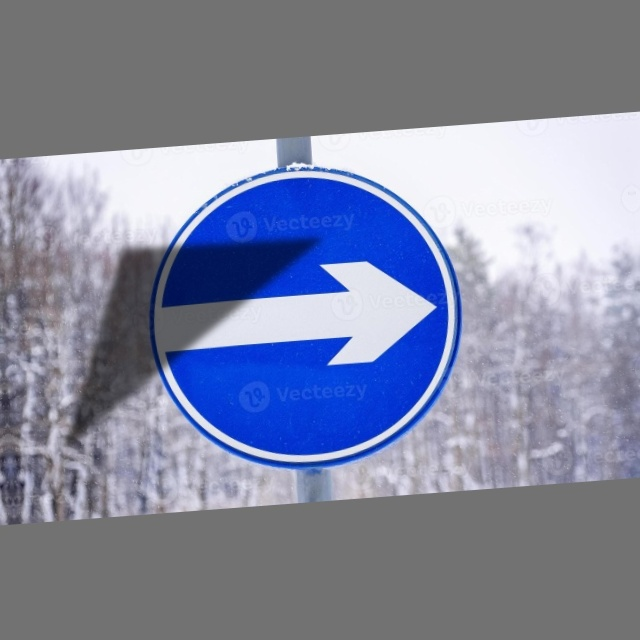Compulsory_Turn_Right: (139, 153, 473, 476)
